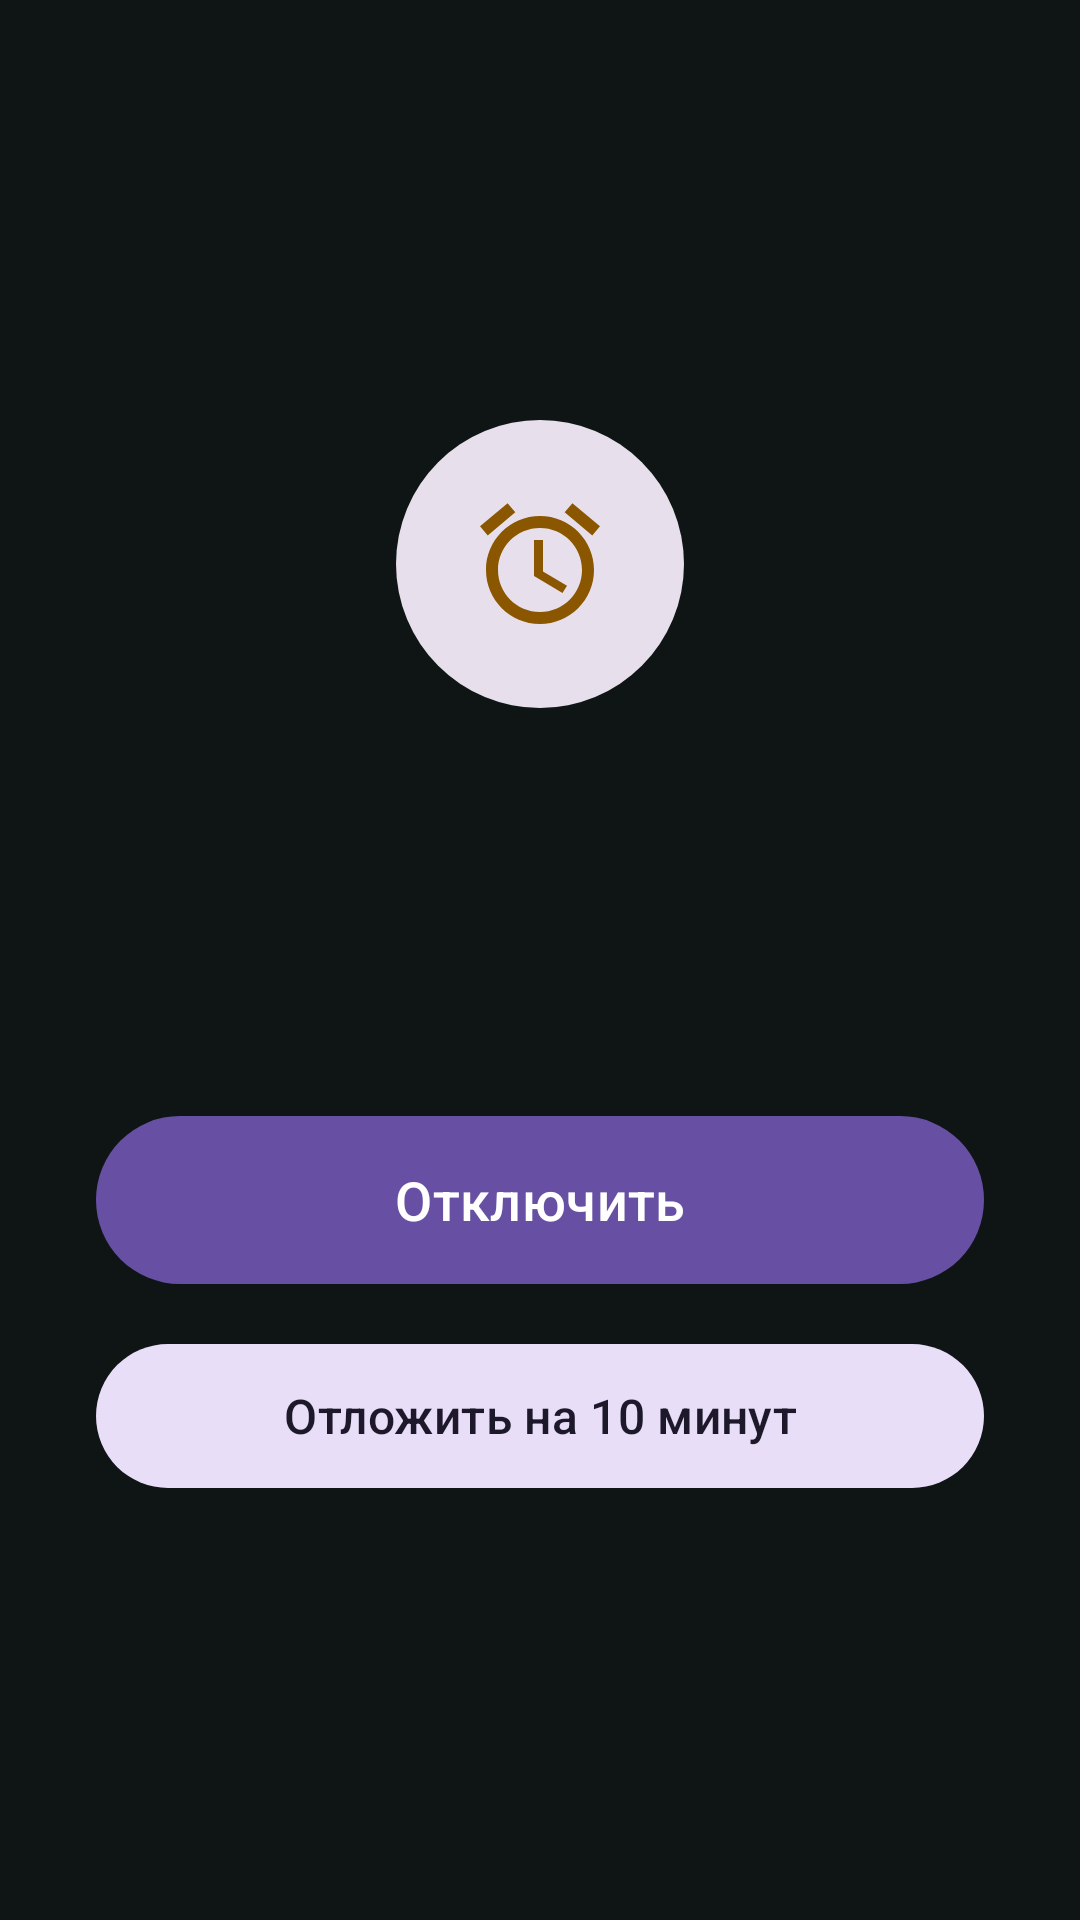

Named icons in this screenshot (1080px x 1920px) and their bounding boxes, (x1, y1, x2, y2):
Будильник: (396, 420, 684, 708)
